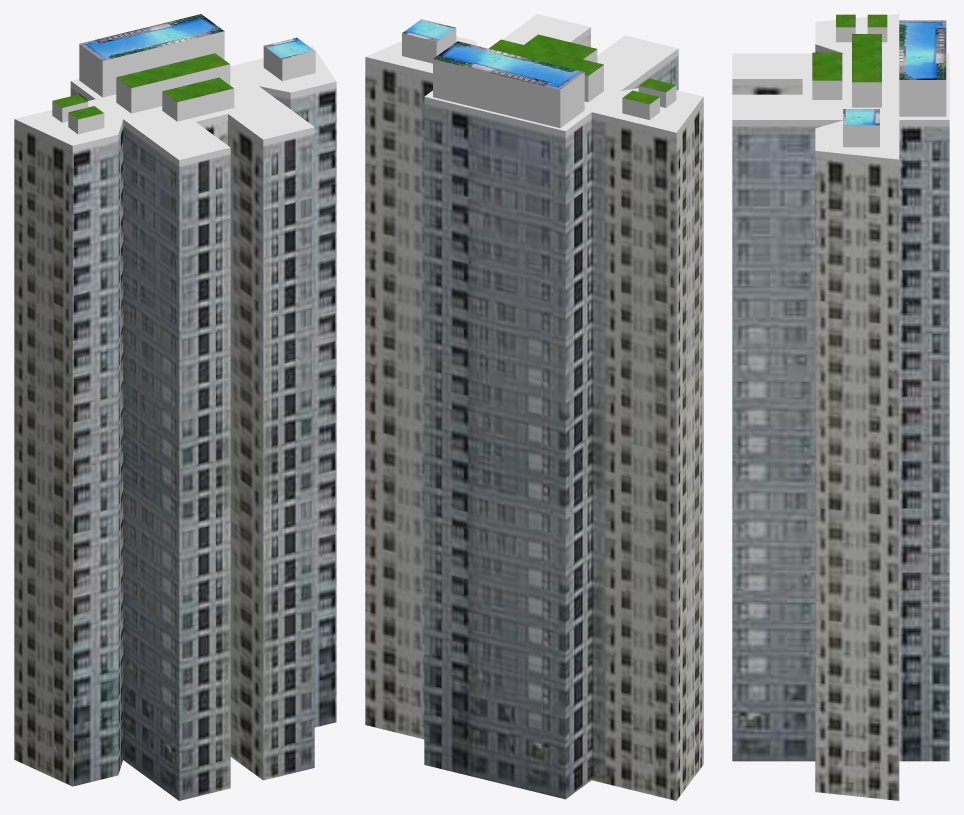
3 views of the same model, side by side, from view 1: azimuth 30°, elevation 25°; view 2: azimuth 150°, elevation 25°; view 3: azimuth 270°, elevation 25° (orthographic). The views are drawn at different scales.
Visible parts, largest first — view 1: 5b1a321e1c21e330bca3ed78.001; view 2: 5b1a321e1c21e330bca3ed78.001; view 3: 5b1a321e1c21e330bca3ed78.001.
Part boxes in pixels (box(x1,y1,x2,y2)): 5b1a321e1c21e330bca3ed78.001: box(14, 14, 336, 800); 5b1a321e1c21e330bca3ed78.001: box(365, 14, 703, 800); 5b1a321e1c21e330bca3ed78.001: box(732, 14, 949, 800).
Size of the model in its own units: 44 by 95.47 by 27.7.
1 material, 1 textured.
